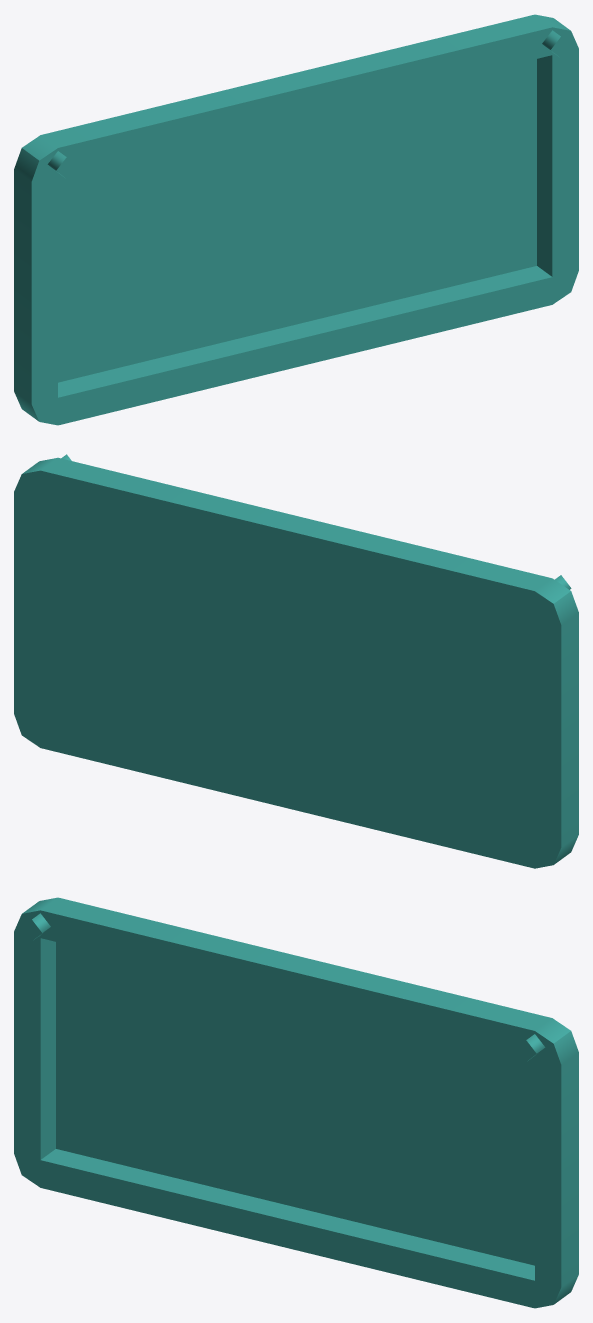
The model's file is SignA_1.fbx.
3 views of the same model, one above another, from view 1: azimuth 30°, elevation 25°; view 2: azimuth 150°, elevation 25°; view 3: azimuth 330°, elevation 25° (orthographic).
Parts seen in each view (by area): view 1: SignA_1; view 2: SignA_1; view 3: SignA_1.
Part boxes in pixels (box(x1,y1,x2,y2)): SignA_1: box(14, 14, 578, 425); SignA_1: box(14, 454, 578, 868); SignA_1: box(14, 897, 578, 1308).
Size of the model in its own units: 84.27 by 40.82 by 6.99.
